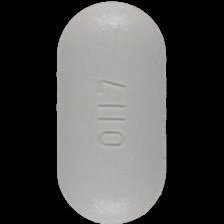49999-542: (0, 0, 224, 224)
